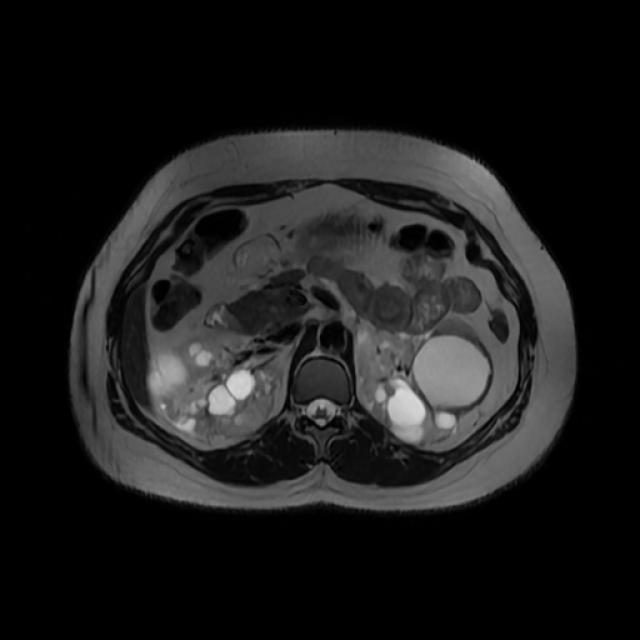sag: (145, 327, 278, 444)
sol: (354, 314, 493, 446)
